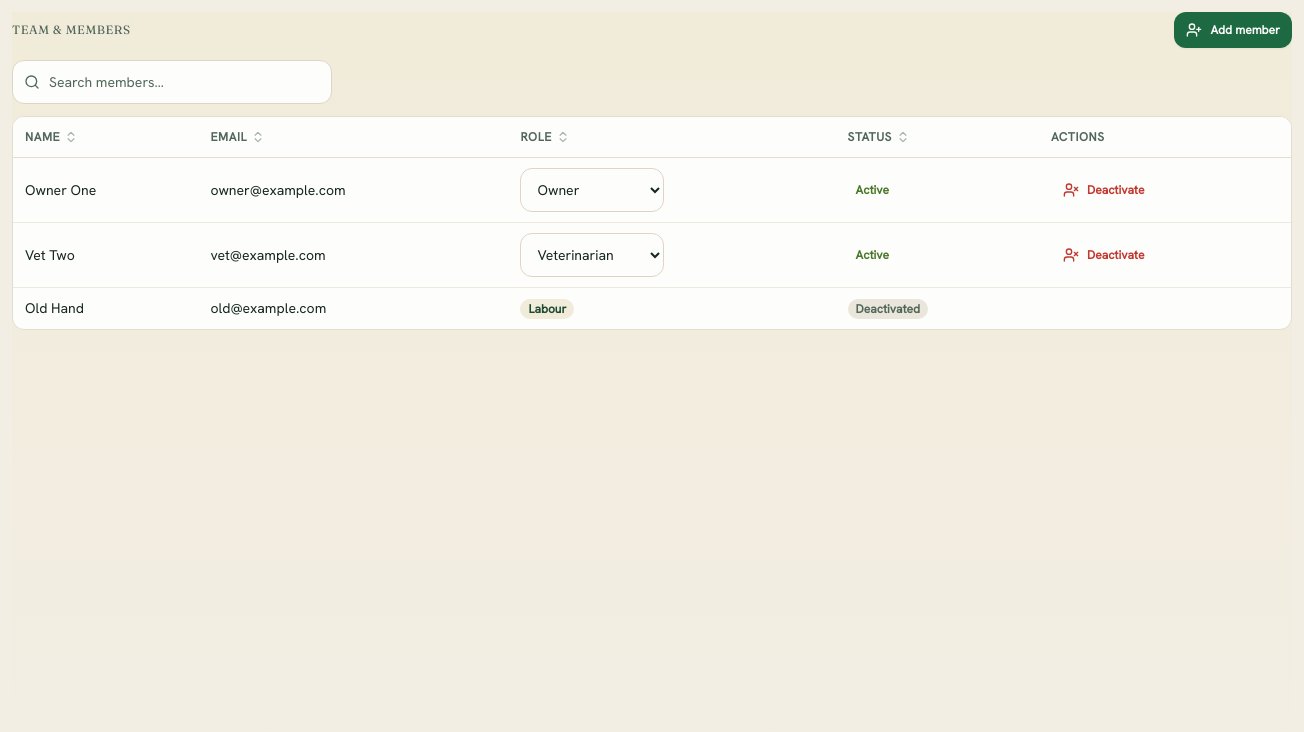
TeamPanel (slice 11.9) › changes a role via the row select (PATCH /members/:userId)
The width and height of the screenshot is (1304, 732).
Expected: the text "Owner One" is shown, left=25, top=180, right=96, bottom=198
# DataTable renders desktop + mobile variants — pick the first instance.
Select "Manager" in the dropdown named "Change role for Vet Two". click: (592, 254)
box: left=520, top=232, right=664, bottom=276
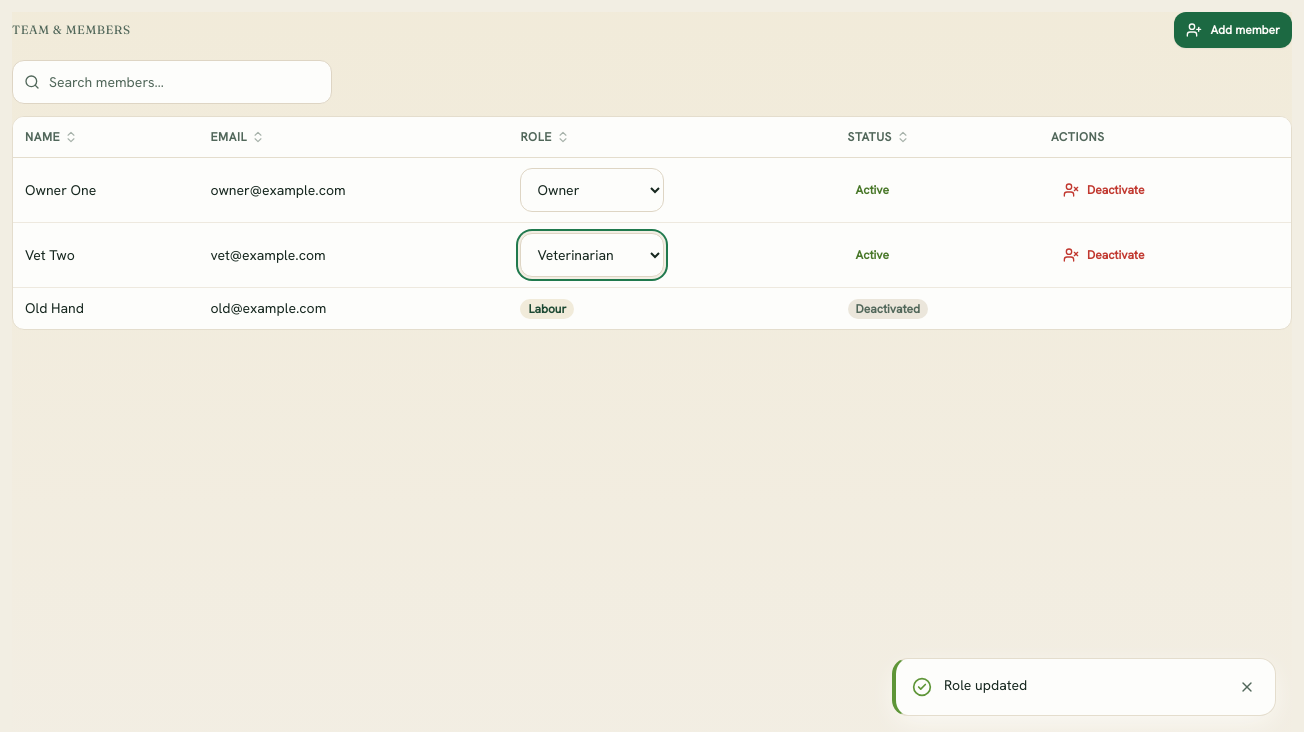
Now the text "Role updated" is shown, box left=944, top=676, right=1027, bottom=694
